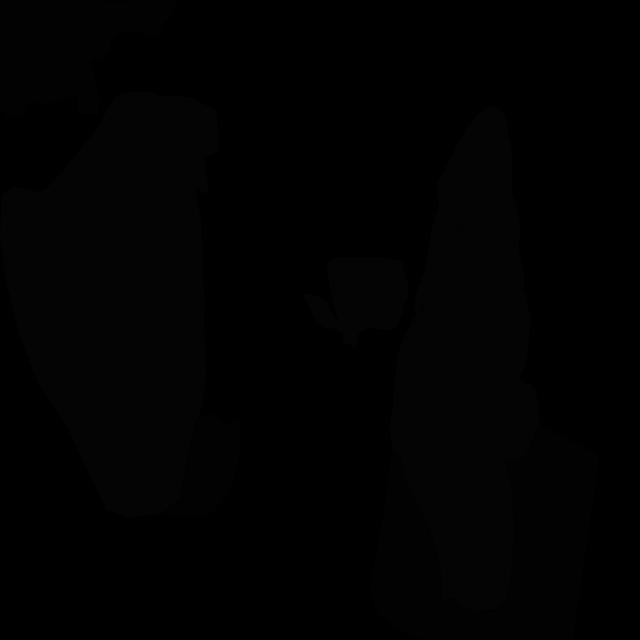cardboard: (370, 425, 600, 640), (163, 412, 241, 517), (109, 0, 177, 37)
soft_plastic: (0, 91, 219, 518), (389, 218, 540, 614), (414, 106, 524, 316), (302, 257, 408, 347)
